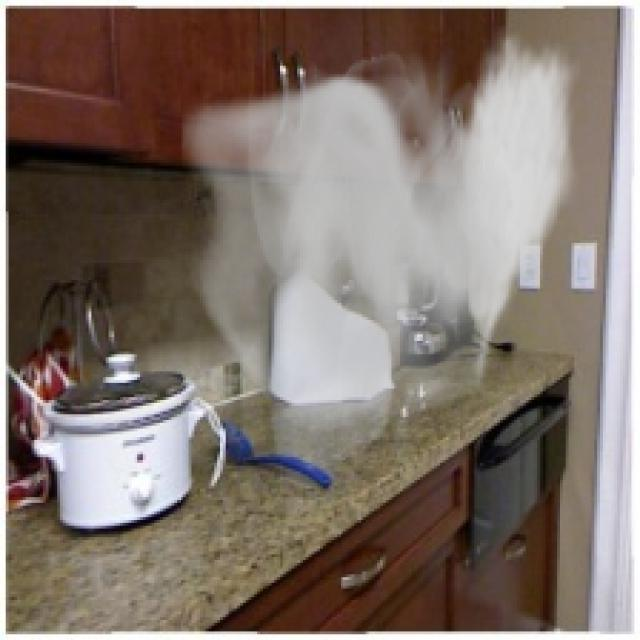Smoke: (180, 26, 580, 443)
